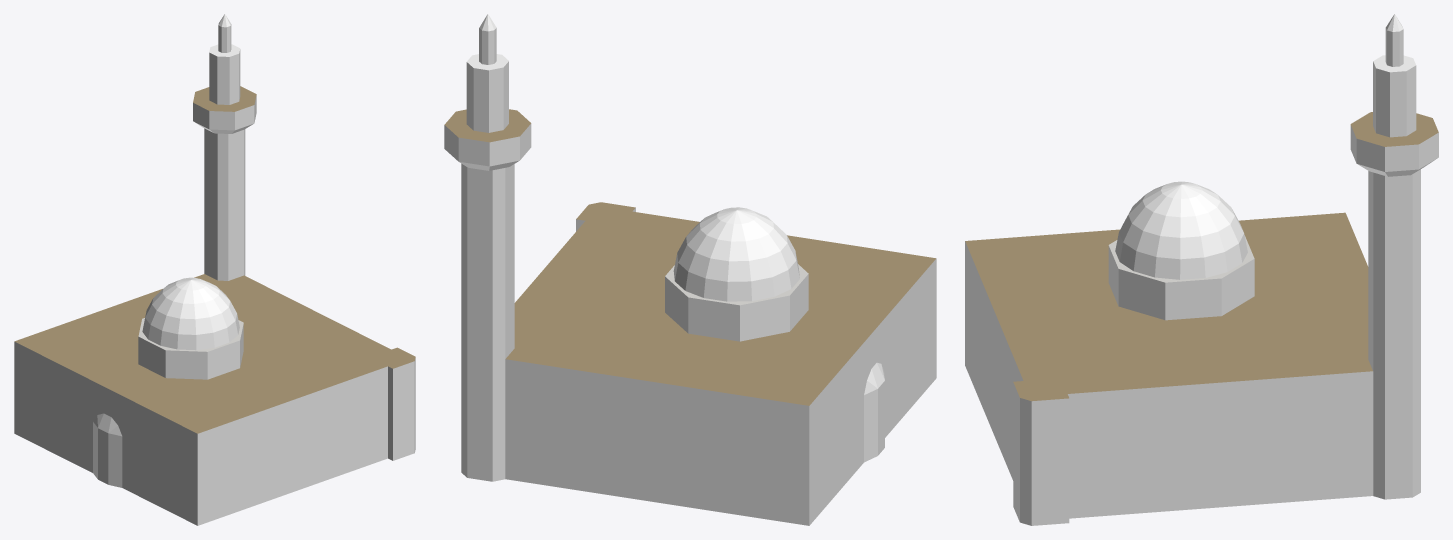
3 views of the same model, side by side, from view 1: azimuth 30°, elevation 25°; view 2: azimuth 150°, elevation 25°; view 3: azimuth 270°, elevation 25° (orthographic). The views are drawn at different scales.
Parts seen in each view (by area): view 1: skp6928_001; view 2: skp6928_001; view 3: skp6928_001.
Part boxes in pixels (x1,y1,x2,y2): skp6928_001: (14, 14, 415, 525); skp6928_001: (444, 14, 936, 525); skp6928_001: (965, 14, 1438, 525).
Size of the model in its own units: 23684 by 27782 by 25144.
